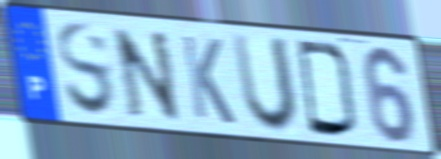6: (361, 43, 417, 146)
D: (293, 36, 360, 141)
K: (178, 32, 238, 128)
N: (109, 26, 184, 124)
S: (54, 19, 118, 121)
U: (229, 30, 301, 137)
